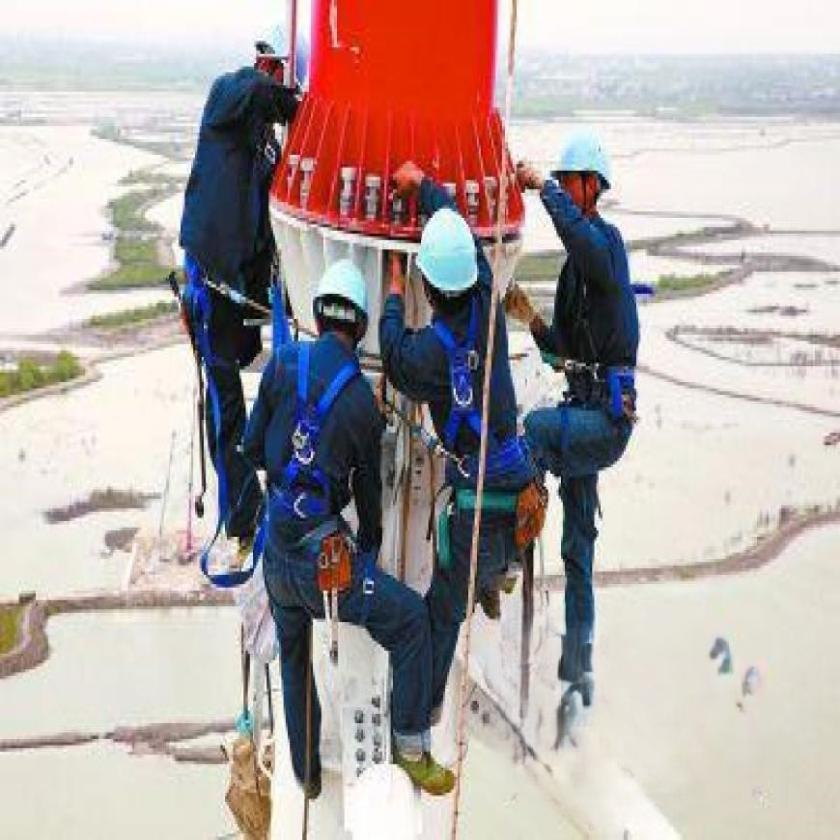Con_casco: (295, 238, 377, 362), (408, 202, 482, 305), (546, 118, 612, 210)
